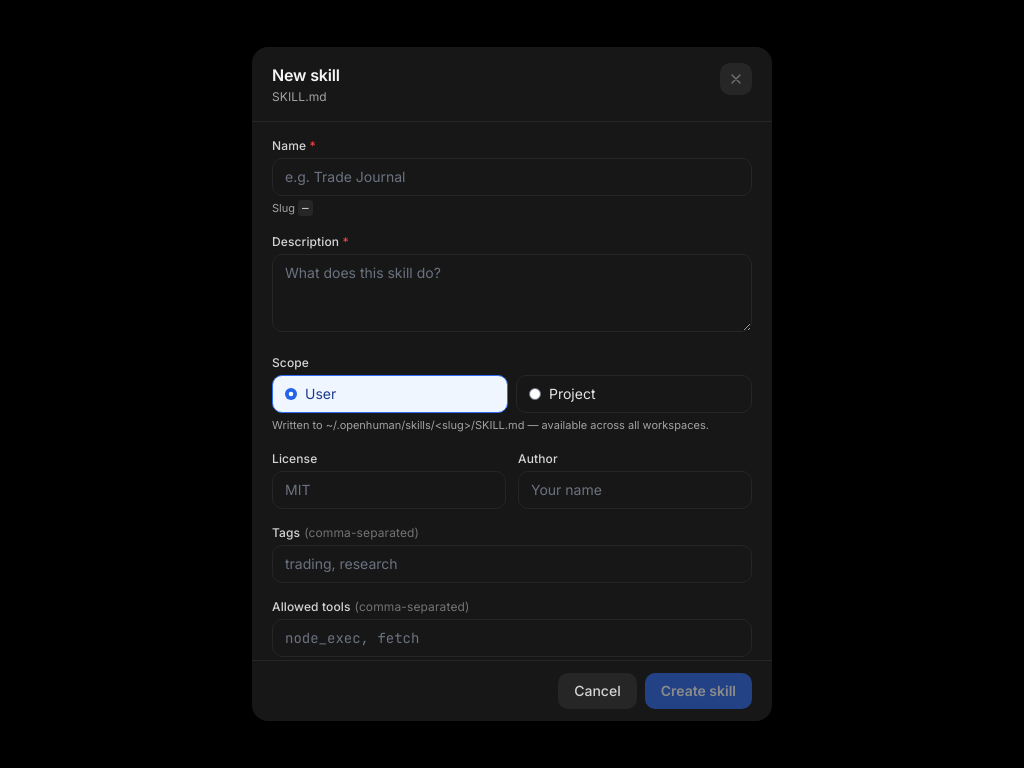
CreateSkillModal › updates slug preview as the user types the name
In the field labelled "Name *": point(512, 177) [272,158,752,196], type "My Trade Journal!"
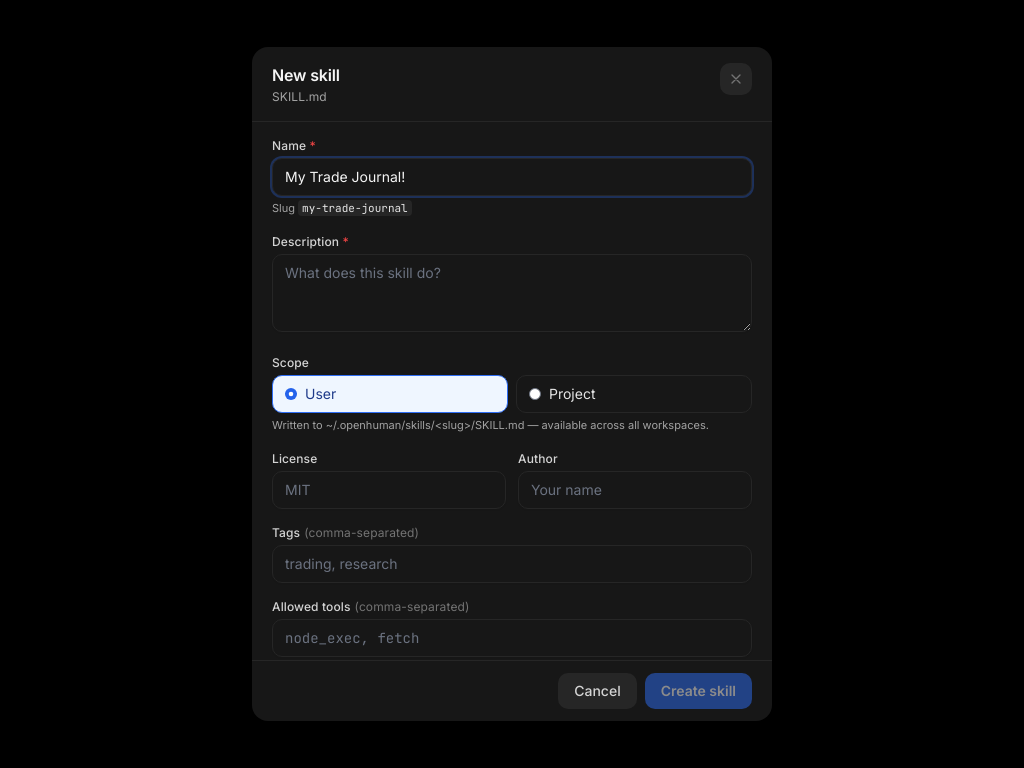
Expected: the text "my-trade-journal" is shown, [298,200,412,216]
